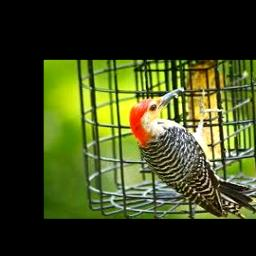Woodpecker: (129, 86, 253, 217)
